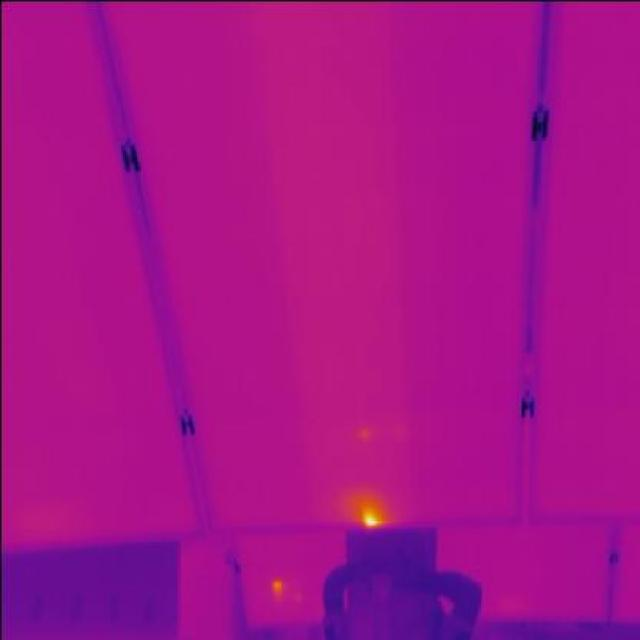hotspot: (354, 506, 384, 532)
